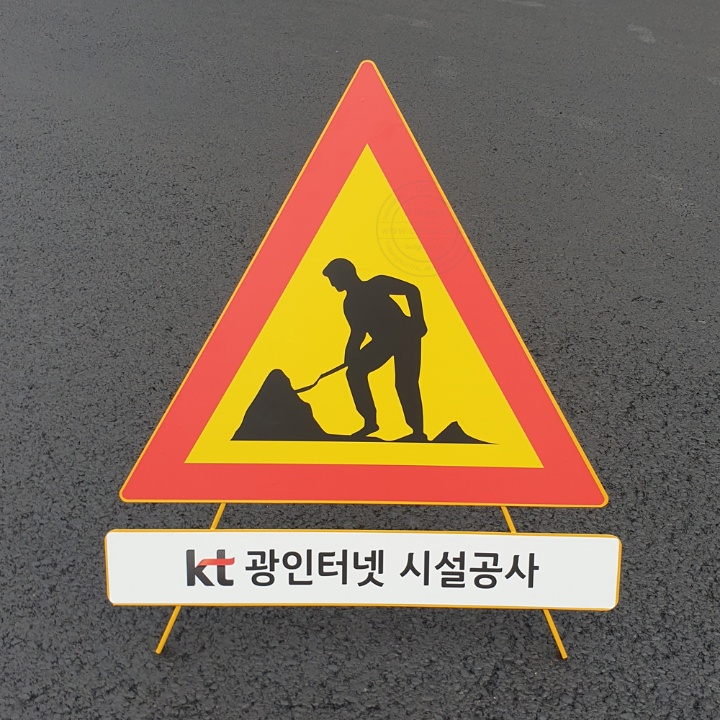const: (230, 252, 498, 447)
